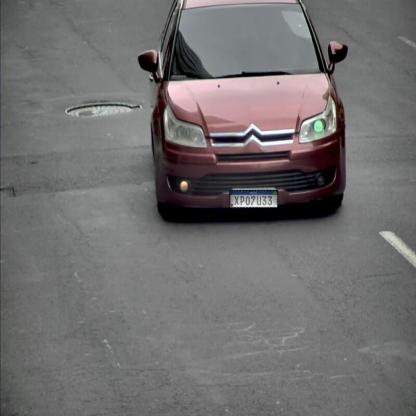PlacaM: (230, 190, 278, 208)
